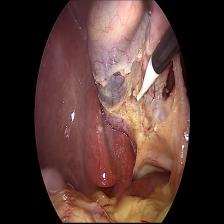Hook: (131, 51, 161, 116)
